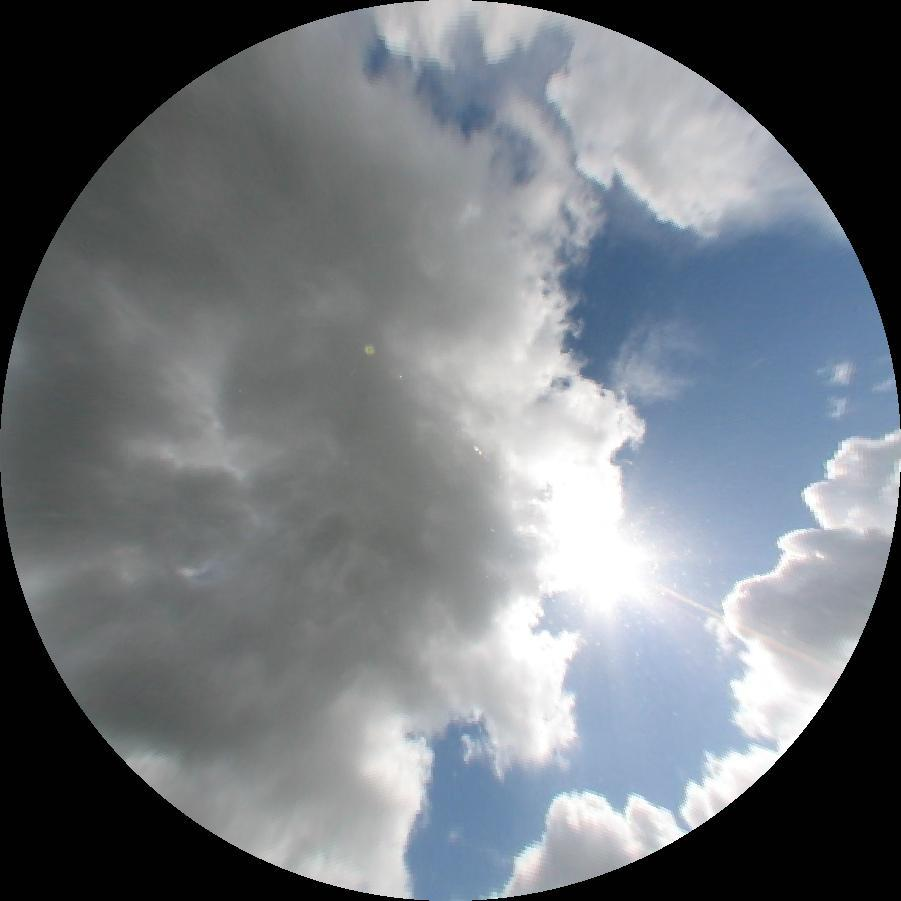contrail young: (741, 355, 765, 375)
parasite: (643, 577, 842, 678)
sun: (576, 524, 648, 608)
